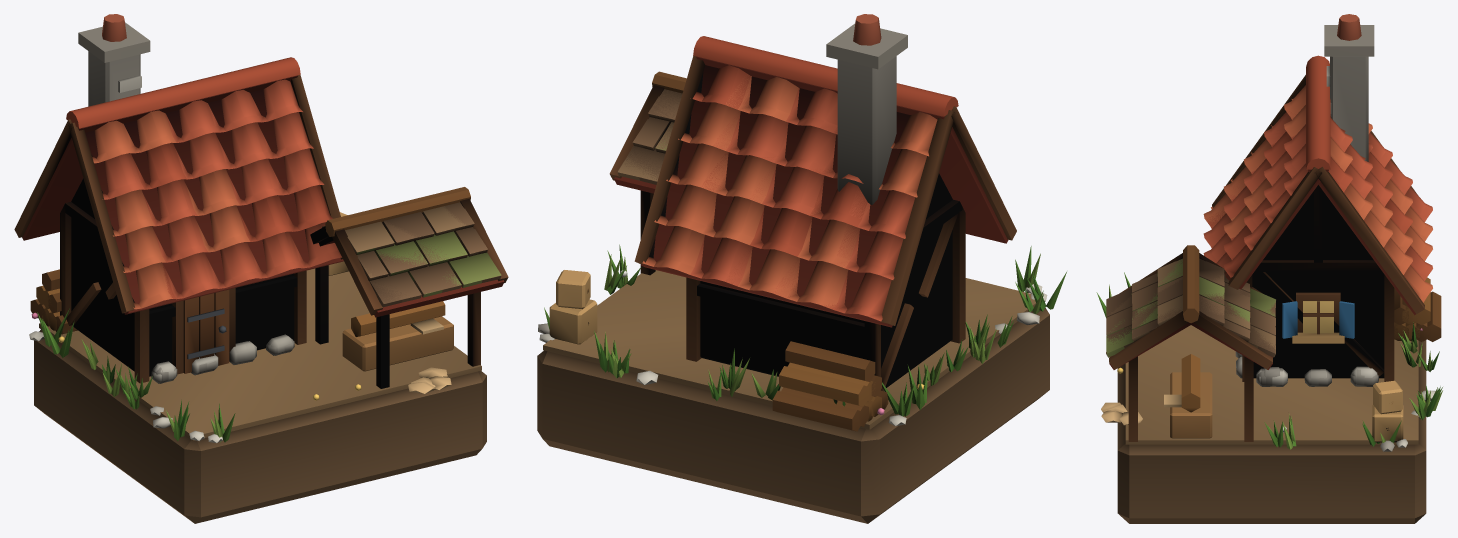
The model's file is sawmill.glb.
The picture shows the model from 3 angles, left to right: view 1: azimuth 30°, elevation 25°; view 2: azimuth 150°, elevation 25°; view 3: azimuth 270°, elevation 25°; orthographic projection. The views are drawn at different scales.
Visible parts, largest first — view 1: sawmill_l1, sawmill_l2, sawmill_l3; view 2: sawmill_l1, sawmill_l2, sawmill_l3; view 3: sawmill_l1, sawmill_l3, sawmill_l2.
Boxes of the visible parts, x1=… form: sawmill_l1: x1=14, y1=14, x2=508, y2=523; sawmill_l2: x1=30, y1=75, x2=499, y2=440; sawmill_l3: x1=31, y1=80, x2=501, y2=442; sawmill_l1: x1=537, y1=14, x2=1049, y2=523; sawmill_l2: x1=538, y1=102, x2=1047, y2=431; sawmill_l3: x1=539, y1=74, x2=1066, y2=414; sawmill_l1: x1=1106, y1=14, x2=1435, y2=523; sawmill_l3: x1=1096, y1=66, x2=1442, y2=447; sawmill_l2: x1=1106, y1=75, x2=1442, y2=451.
Size of the model in its own units: 0.9394 by 1.12 by 0.8995.
